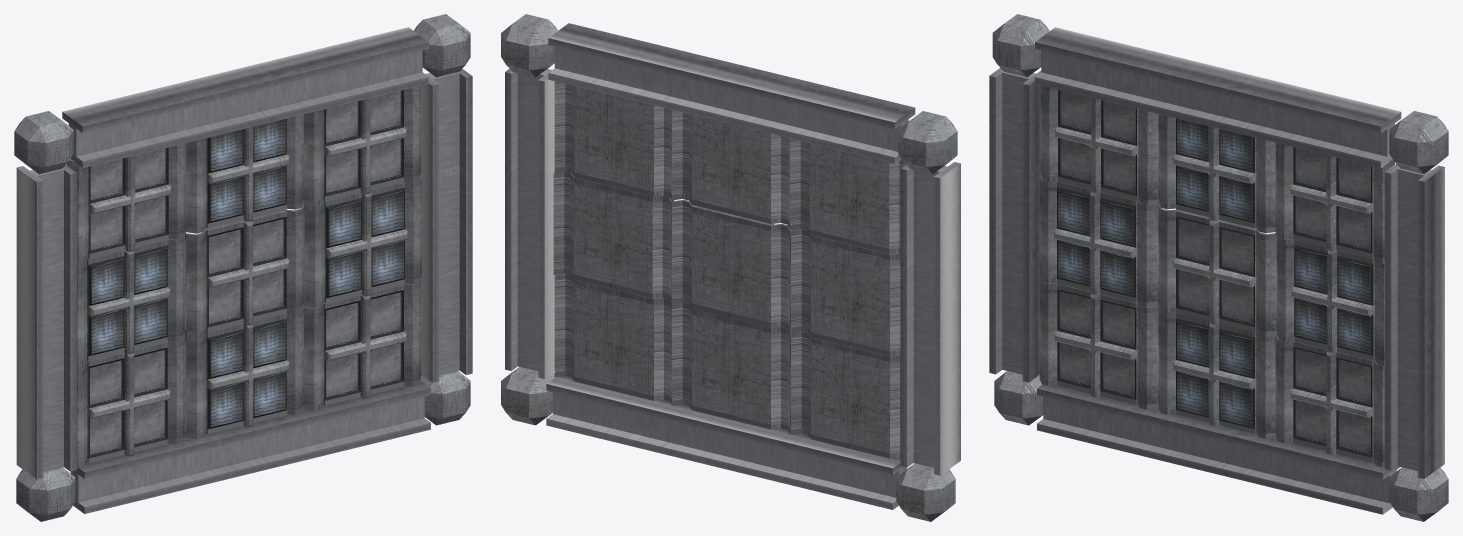
Rendered from WallGiantArea.fbx.
3 renders of one model, left to right at view 1: azimuth 30°, elevation 25°; view 2: azimuth 150°, elevation 25°; view 3: azimuth 330°, elevation 25°, orthographic.
Parts seen in each view (by area): view 1: polySurface1; view 2: polySurface1; view 3: polySurface1.
Boxes of the visible parts, bbox=[...] form: polySurface1: bbox=[14, 14, 472, 521]; polySurface1: bbox=[501, 14, 960, 521]; polySurface1: bbox=[989, 14, 1448, 521].
Size of the model in its own units: 302 by 258 by 31.3.
3 materials, 3 textured.
